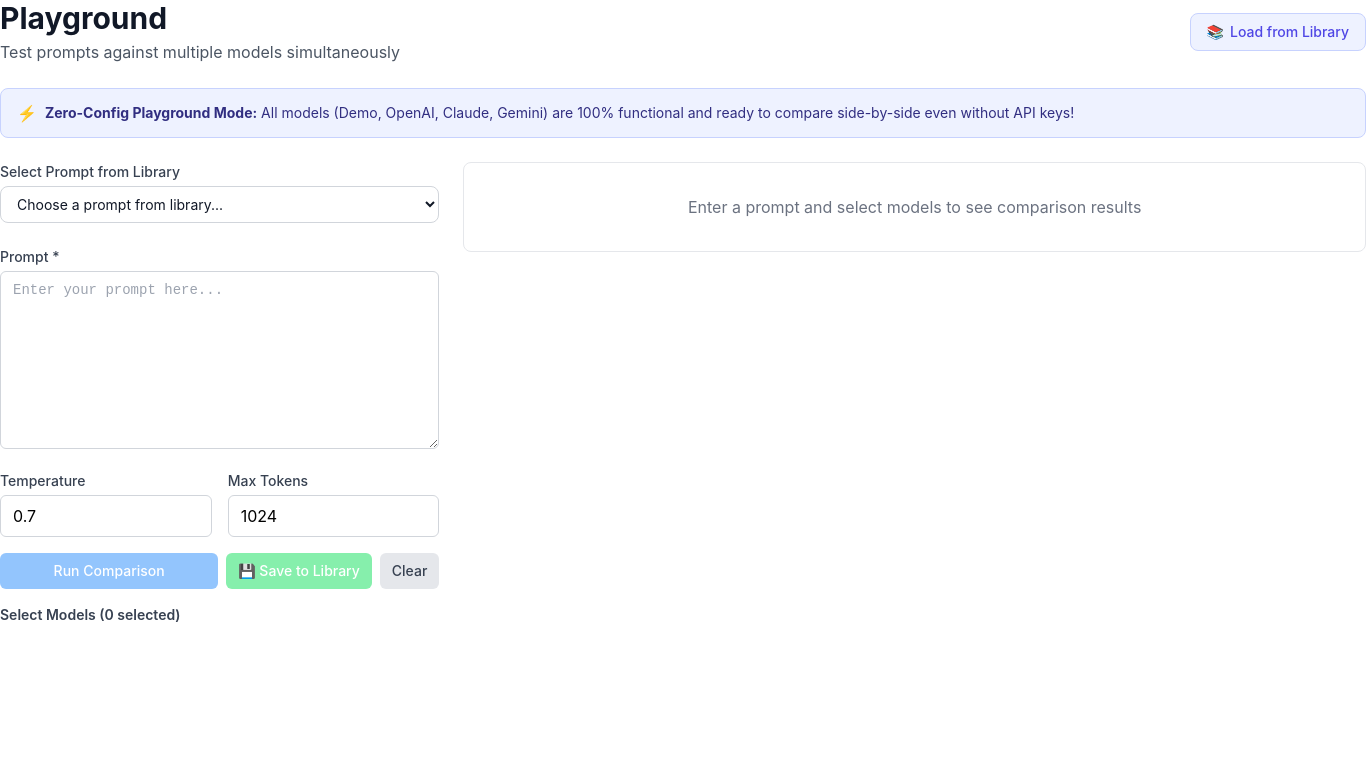
Playground › should open save to library modal and save prompt
In the text box with placeholder "Enter your prompt here...": (220, 360) [0,271,439,449], type "My test prompt content"
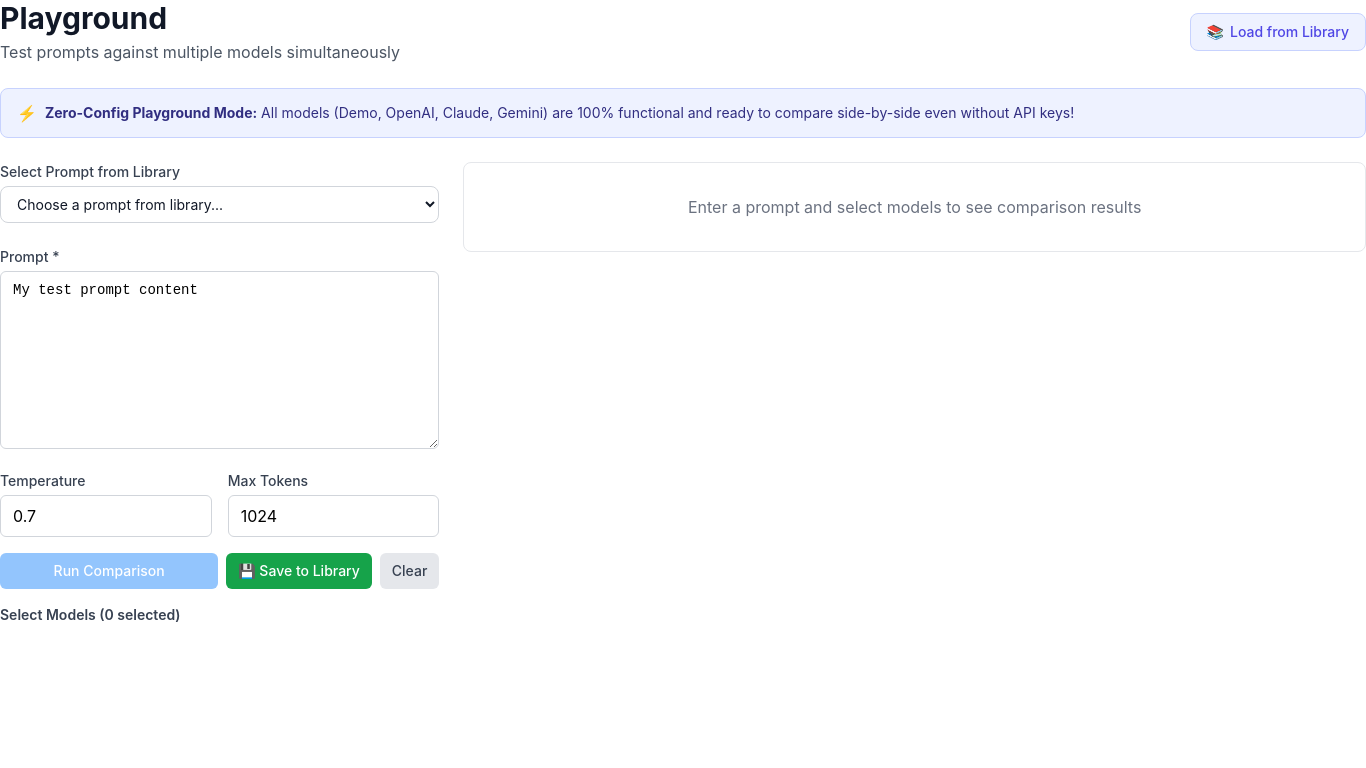
Click the button "💾 Save to Library": (299, 571) [226,553,372,589]
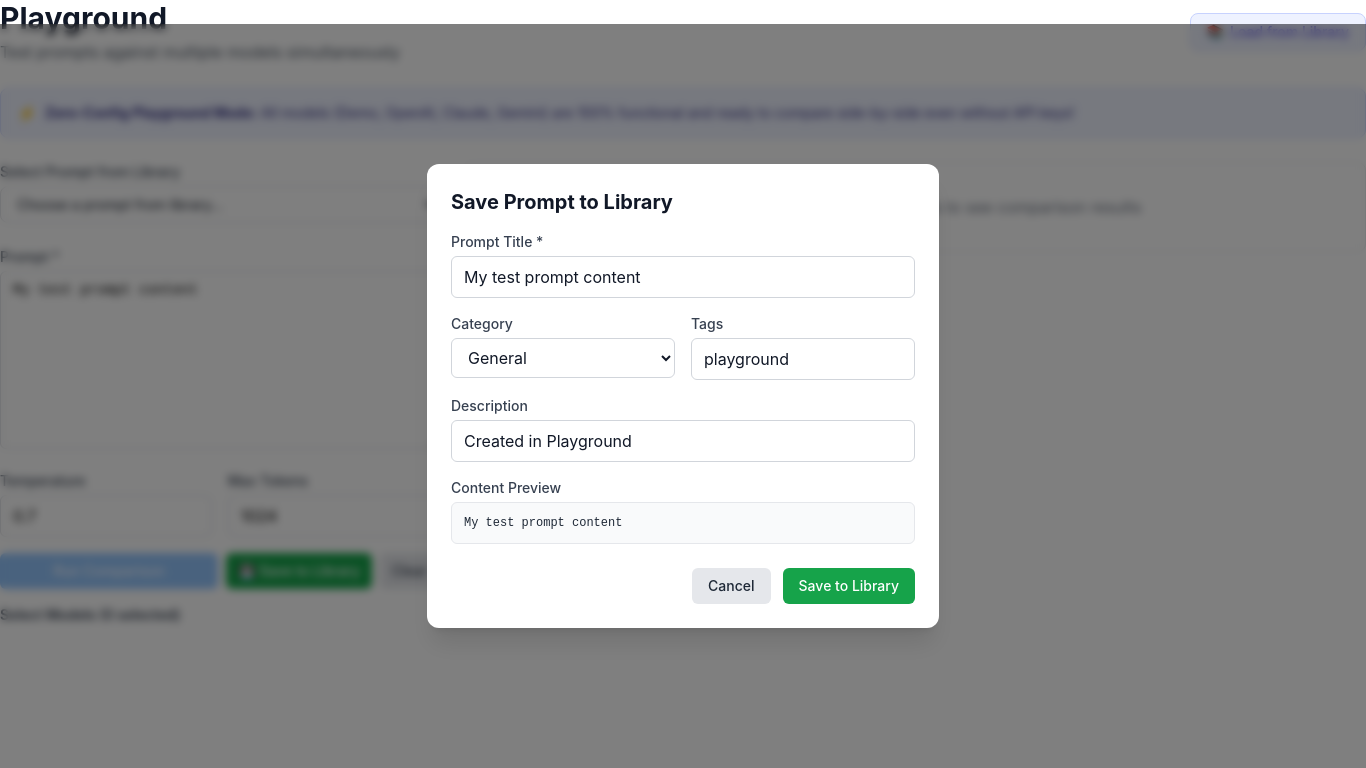
Expected: the heading "Save Prompt to Library" is shown, [451,190,673,214]
Click the button "Save to Library": (849, 586) [783,568,915,604]
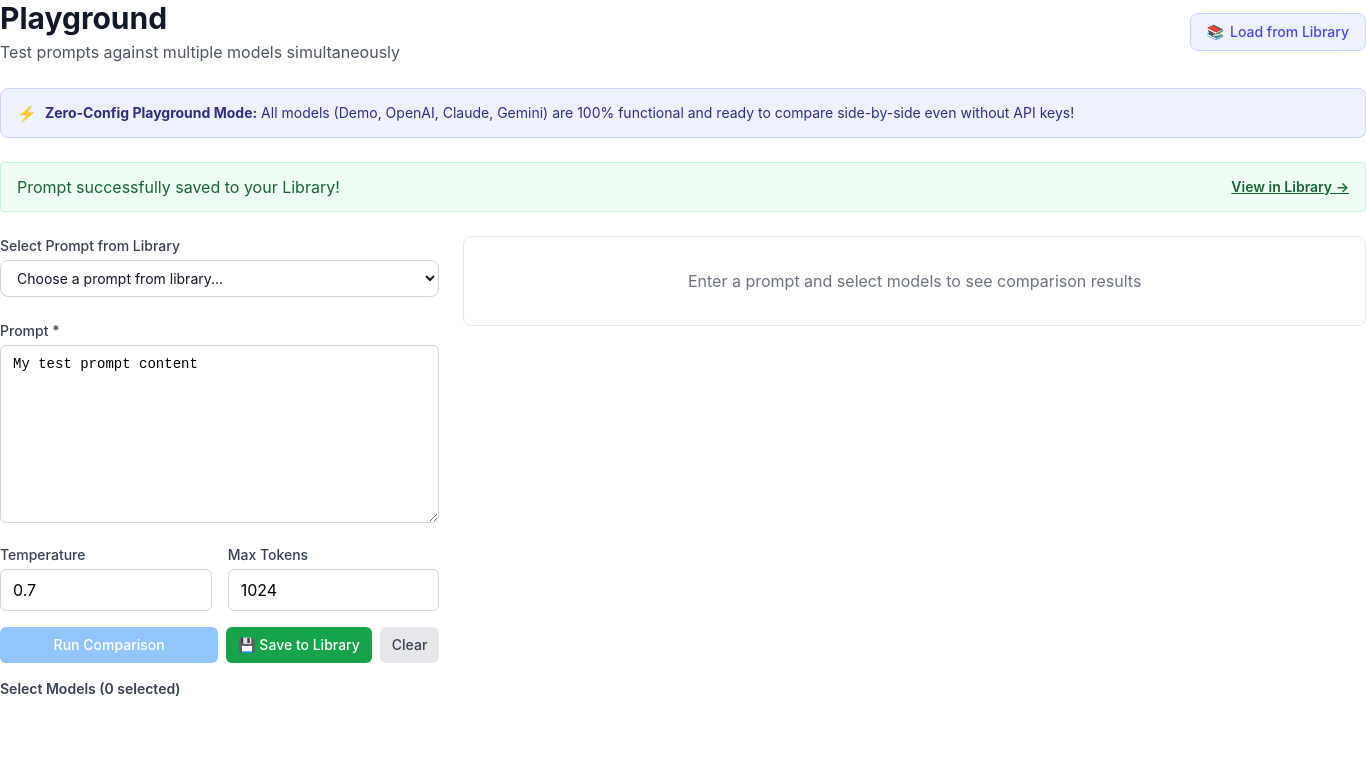
Expected: the text "Prompt successfully saved to your Library!" is shown, [17,175,340,199]
